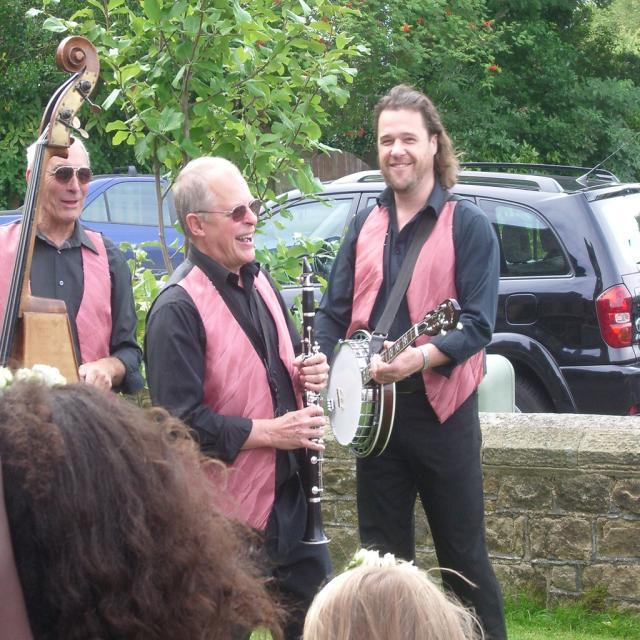clarinet: (290, 254, 335, 552)
